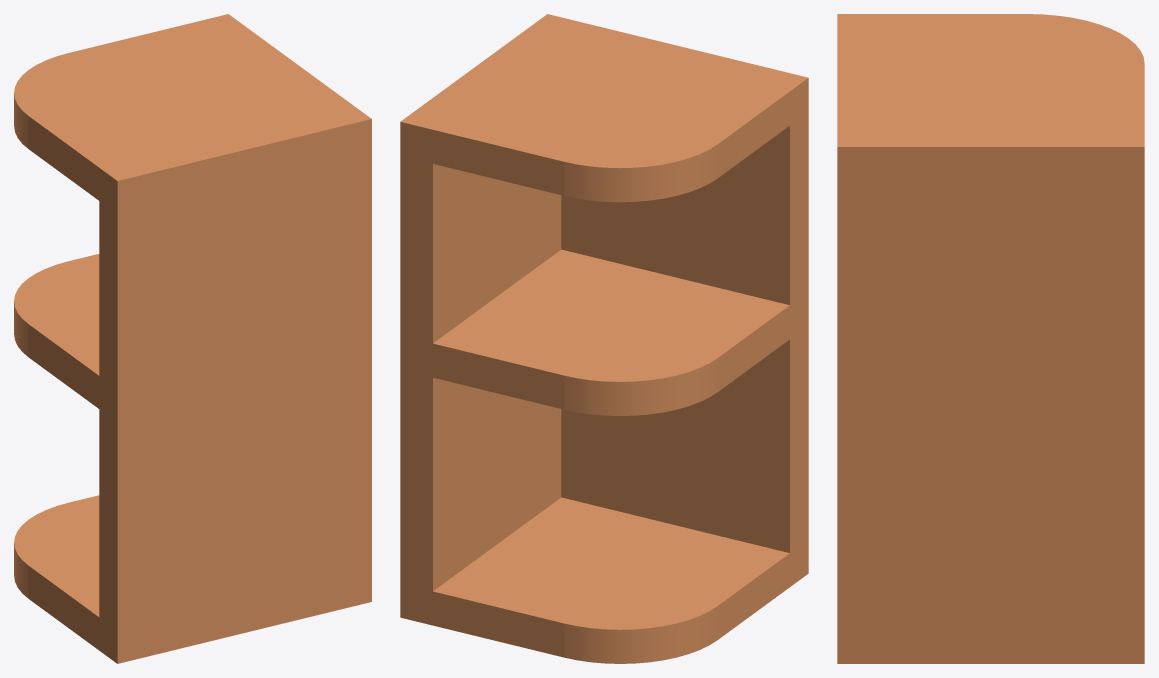
Rendered from kitchenCabinetUpperCorner.dae.
The picture shows the model from 3 angles, left to right: view 1: azimuth 30°, elevation 25°; view 2: azimuth 150°, elevation 25°; view 3: azimuth 270°, elevation 25°; orthographic projection. The views are drawn at different scales.
Visible parts, largest first — view 1: kitchenCabinetUpperCorner; view 2: kitchenCabinetUpperCorner; view 3: kitchenCabinetUpperCorner.
Part boxes in pixels (box(x1,y1,x2,y2)): kitchenCabinetUpperCorner: box(14, 14, 371, 663); kitchenCabinetUpperCorner: box(400, 14, 808, 663); kitchenCabinetUpperCorner: box(837, 14, 1144, 663).
Size of the model in its own units: 0.215 by 0.39 by 0.21.
